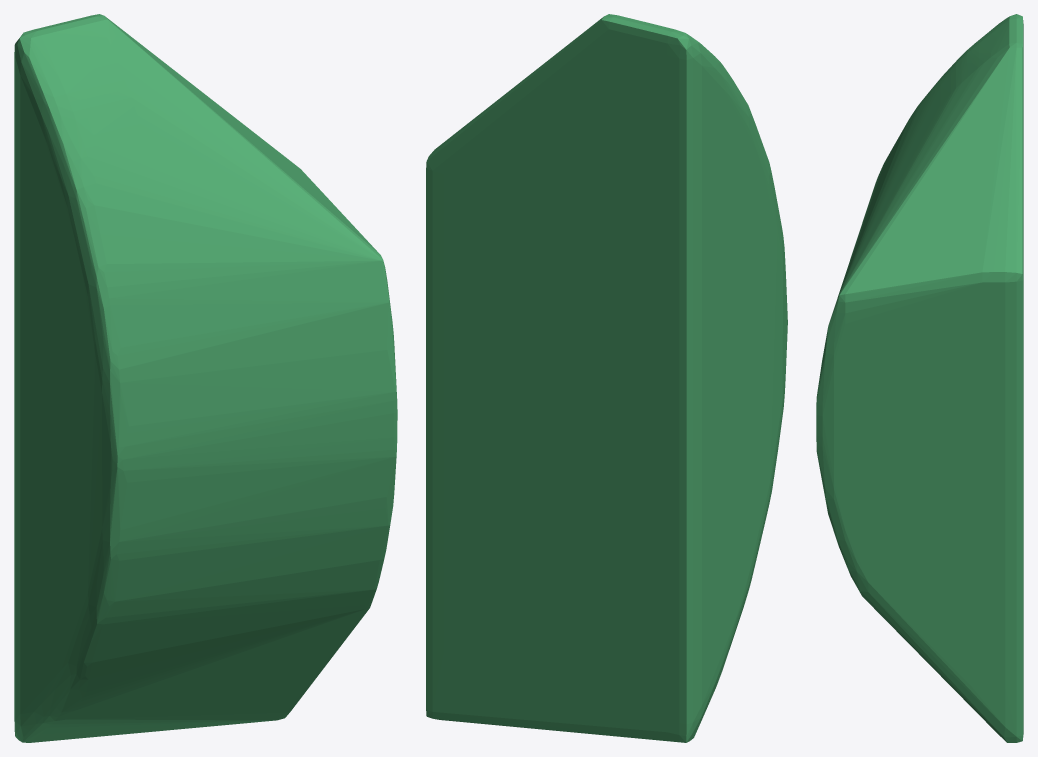
The model's file is left_hip_roll_link_part_3.obj.
3 renders of one model, left to right at view 1: azimuth 30°, elevation 25°; view 2: azimuth 150°, elevation 25°; view 3: azimuth 270°, elevation 25°, orthographic. The views are drawn at different scales.
Bounding box in the file's own units: 0.0339 × 0.0892 × 0.0268.
